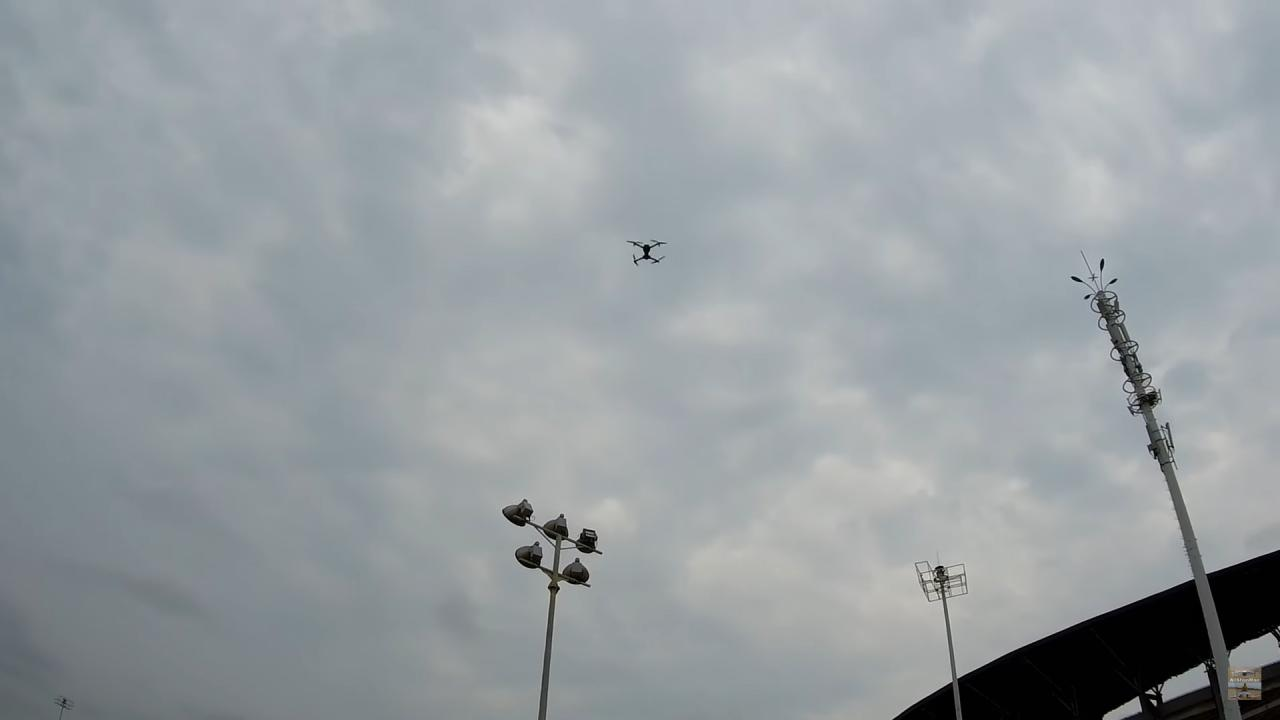Drone: (618, 229, 672, 274)
